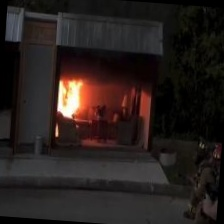fire: (51, 67, 89, 119)
